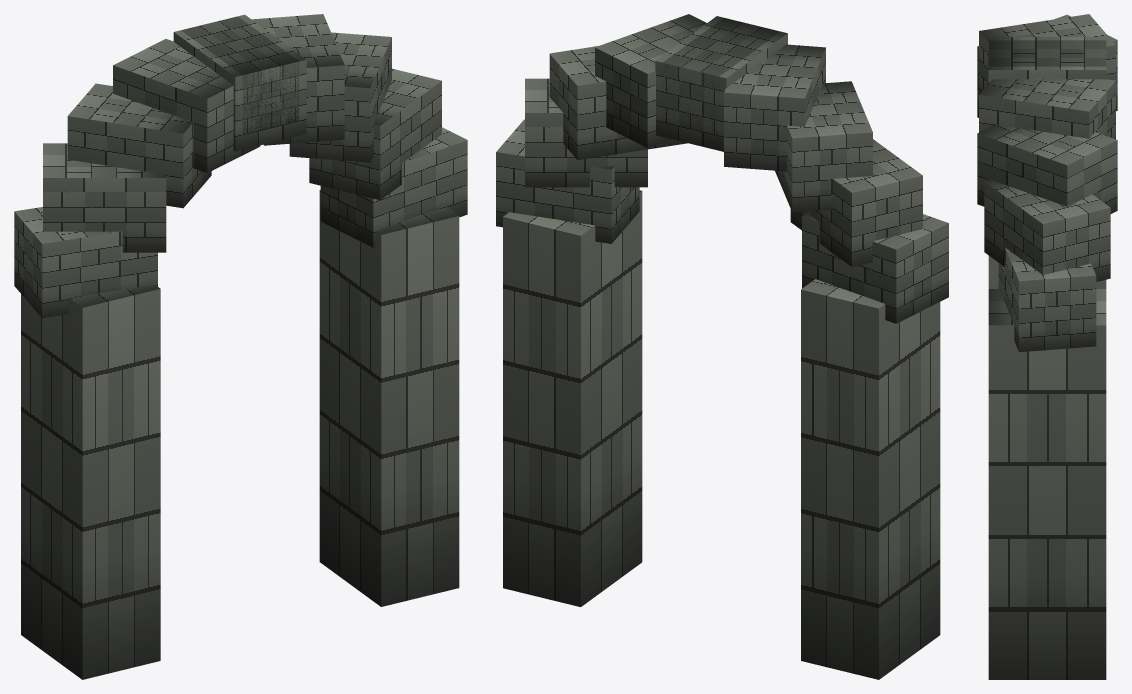
The model's file is arch.gltf.
3 renders of one model, left to right at view 1: azimuth 30°, elevation 25°; view 2: azimuth 150°, elevation 25°; view 3: azimuth 270°, elevation 25°, orthographic. The views are drawn at different scales.
Parts seen in each view (by area): view 1: arch; view 2: arch; view 3: arch.
Part boxes in pixels (left/top/right/bottom): arch: left=14, top=14, right=467, bottom=679; arch: left=496, top=14, right=948, bottom=679; arch: left=977, top=14, right=1117, bottom=679.
Size of the model in its own units: 1.2 by 1.52 by 0.3584.
1 material, 1 textured.
